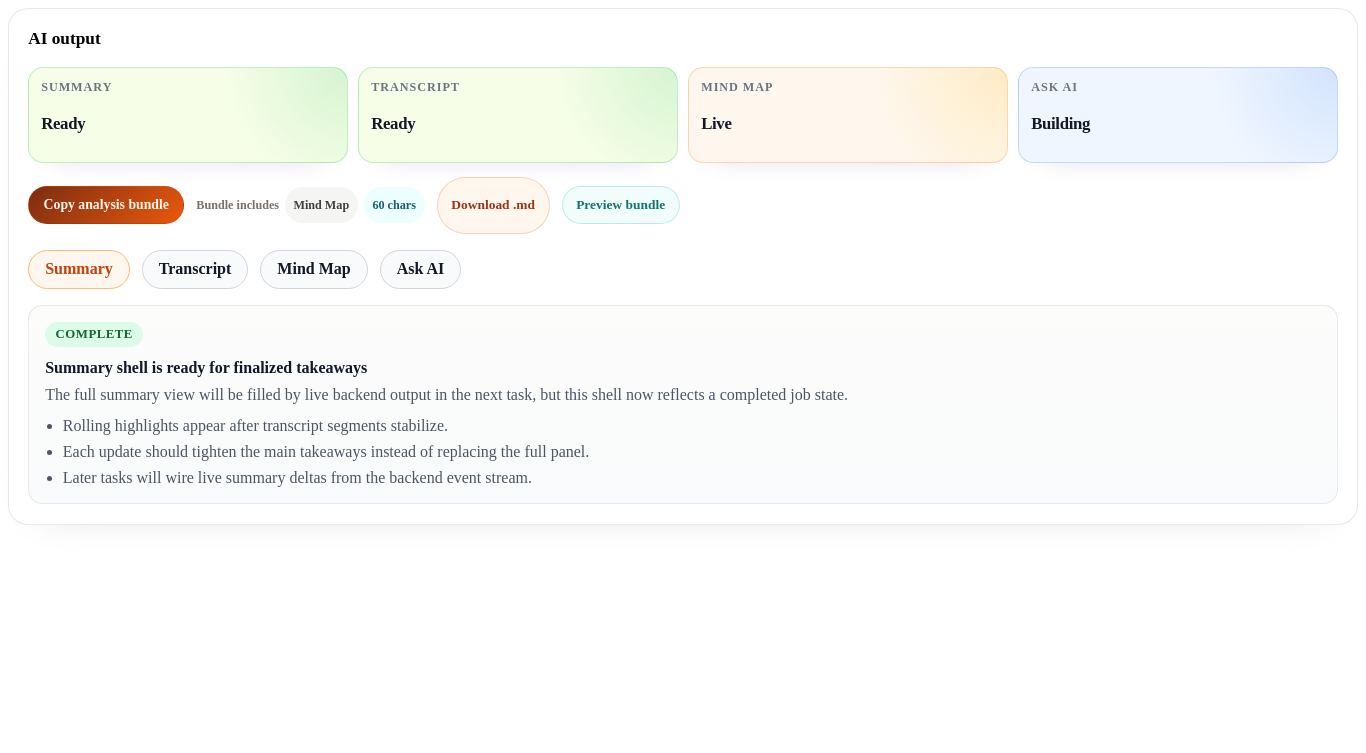
Test: renders mind map branches as a visual node map
Click the tab "Mind Map": (314, 269) [260,250,368,289]
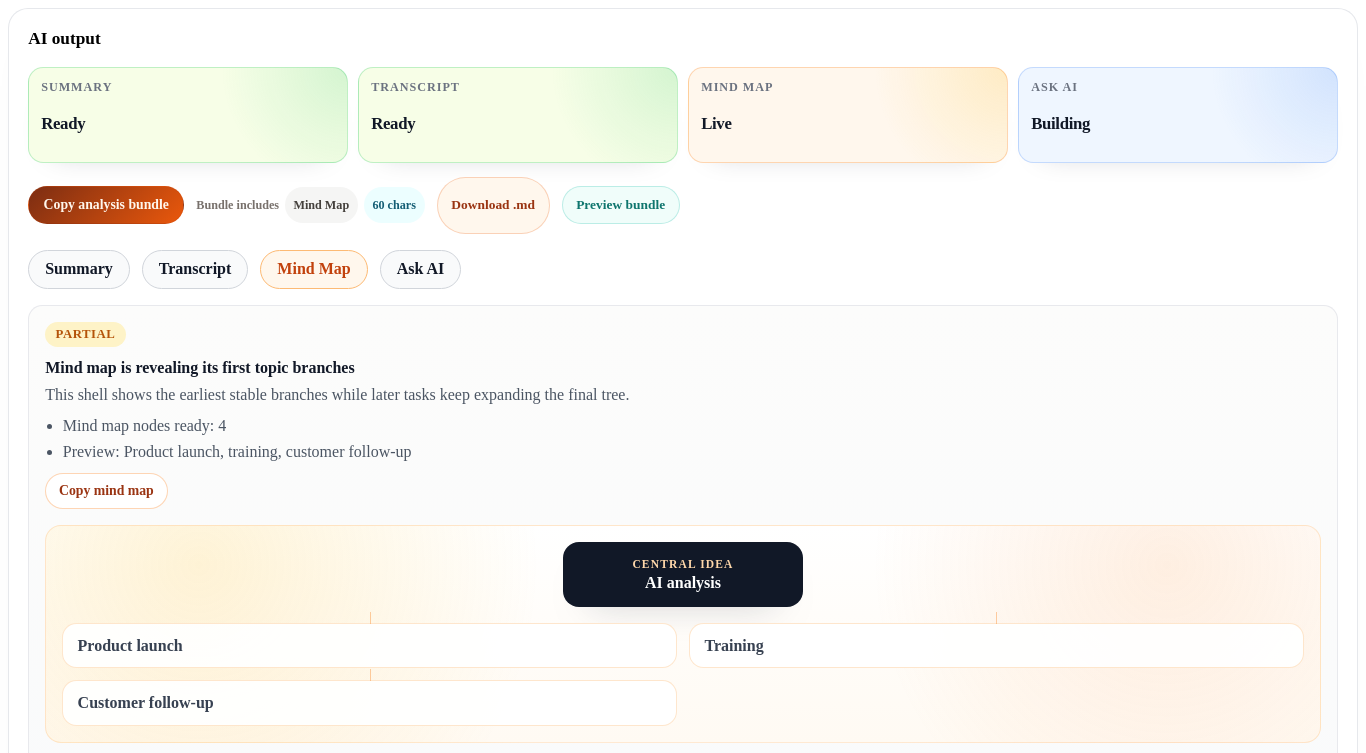
Now the element named "Mind map preview" is shown, box [45,525,1321,743]
Now the text "Central idea" is shown, box [632,558,734,570]
Now the text "Product launch" is shown, box [62,623,677,668]
